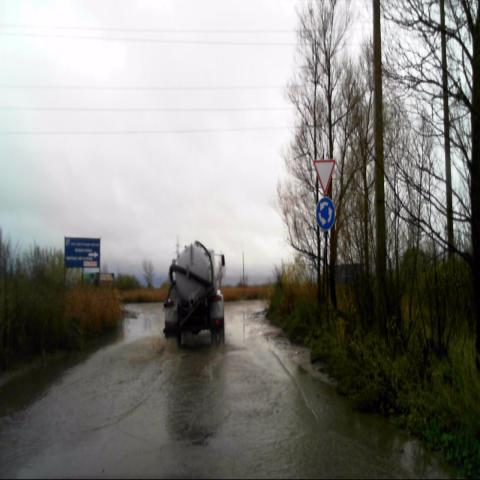4_3: (316, 197, 336, 231)
